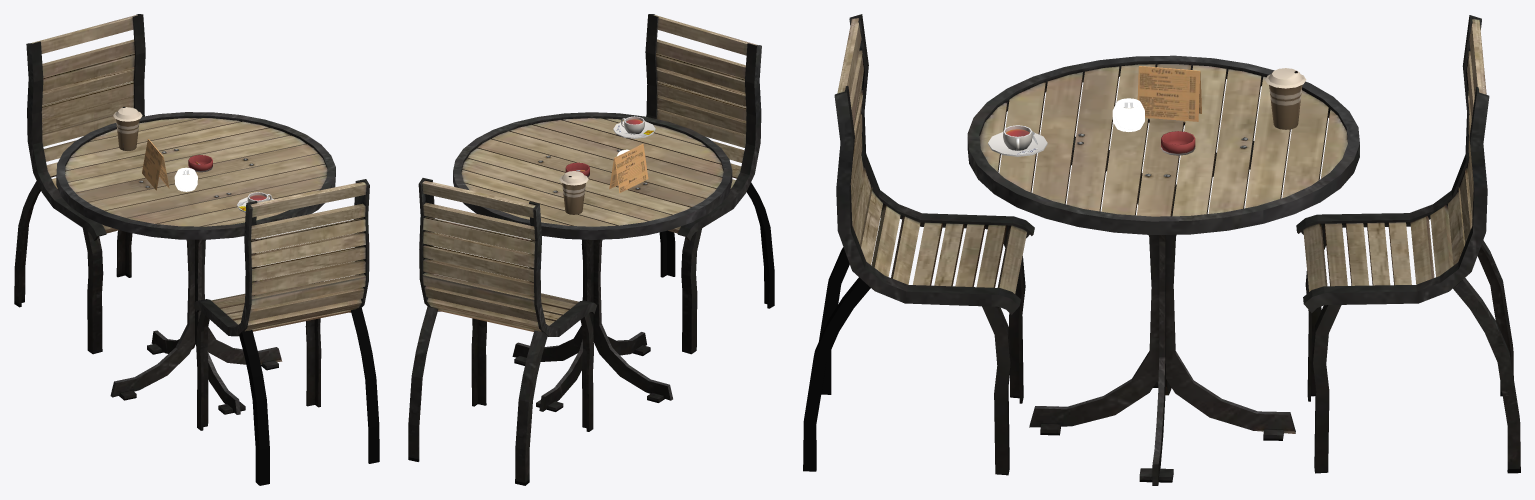
The model's file is p_cafe_set.glb.
3 views of the same model, side by side, from view 1: azimuth 30°, elevation 25°; view 2: azimuth 150°, elevation 25°; view 3: azimuth 270°, elevation 25° (orthographic). The views are drawn at different scales.
Parts seen in each view (by area): view 1: table, chair_1, chair_2, coffe -tall, menu, candlestick; view 2: table, chair_2, chair_1, menu, coffe -tall; view 3: table, chair_1, chair_2, menu, coffe -tall, candlestick, ashtray.
Boxes of the visible parts, x1,y1,x2,y2 form: table: (56, 112, 335, 414); chair_1: (193, 179, 379, 485); chair_2: (14, 14, 204, 354); coffe -tall: (113, 106, 142, 150); menu: (142, 139, 169, 190); candlestick: (174, 167, 197, 191); table: (453, 112, 732, 411); chair_2: (408, 178, 596, 485); chair_1: (581, 14, 774, 354); menu: (609, 144, 648, 192); coffe -tall: (559, 171, 588, 214); table: (967, 55, 1359, 485); chair_1: (803, 14, 1034, 475); chair_2: (1296, 15, 1520, 473); menu: (1137, 66, 1201, 125); coffe -tall: (1265, 68, 1306, 129); candlestick: (1112, 98, 1144, 131); ashtray: (1161, 131, 1195, 155).
Size of the model in its own units: 1.3 by 1.39 by 2.37.
Materials: 13 (11 with a texture image).
